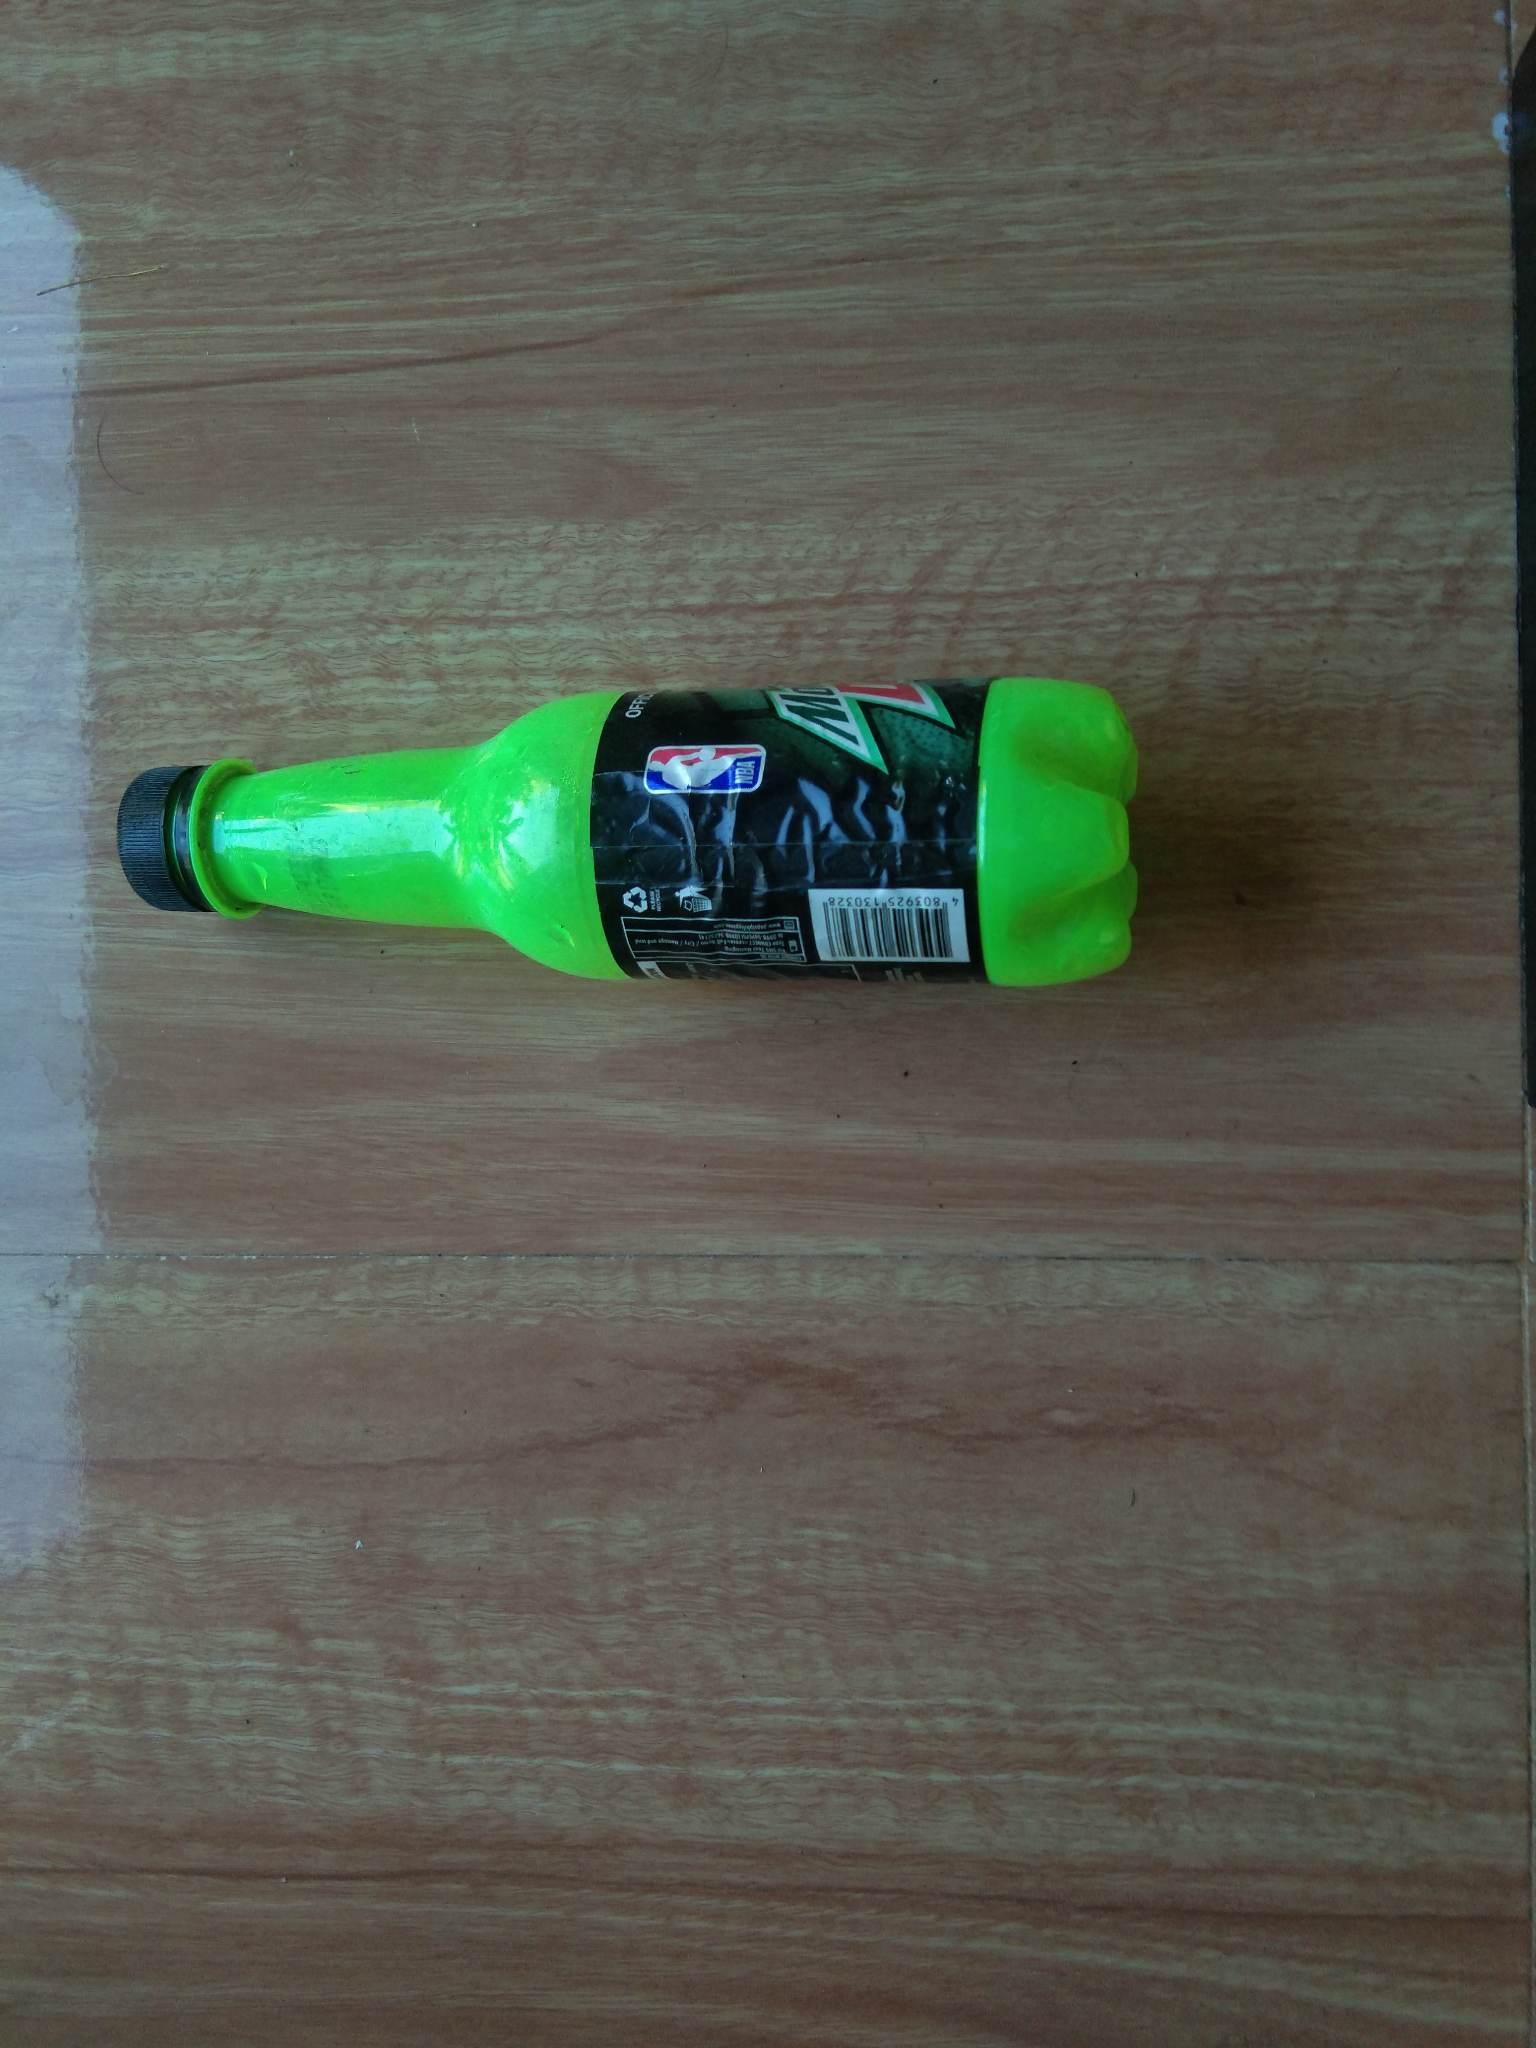plastic: (40, 614, 1250, 1126)
